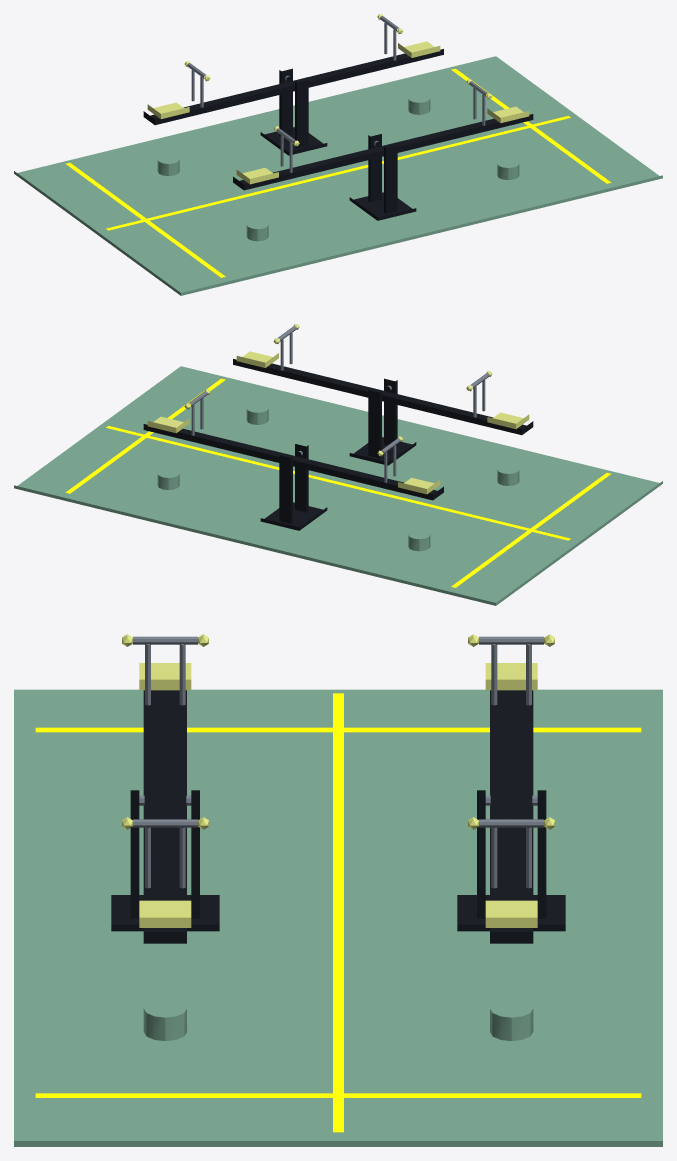
3 views of the same model, one above another, from view 1: azimuth 30°, elevation 25°; view 2: azimuth 150°, elevation 25°; view 3: azimuth 270°, elevation 25° (orthographic). The views are drawn at different scales.
Parts seen in each view (by area): view 1: Safety_Pad, Court_Line, Seesaw1_Beam, Seesaw2_Beam, Fulcrum2, Fulcrum1, Seesaw2_Seats, Seesaw1_Seats, Seesaw2_Handles, Seesaw1_Handles, Bumpers1, Bumpers2; view 2: Safety_Pad, Court_Line, Seesaw2_Beam, Seesaw1_Beam, Fulcrum1, Fulcrum2, Seesaw1_Seats, Seesaw2_Seats, Seesaw1_Handles, Seesaw2_Handles, Bumpers2, Bumpers1; view 3: Safety_Pad, Court_Line, Seesaw1_Beam, Seesaw2_Beam, Fulcrum1, Fulcrum2, Seesaw1_Handles, Seesaw2_Handles, Seesaw1_Seats, Seesaw2_Seats, Bumpers1, Bumpers2.
Part boxes in pixels (bbox=[...]): Safety_Pad: bbox=[14, 56, 662, 295]; Court_Line: bbox=[65, 68, 611, 277]; Seesaw1_Beam: bbox=[143, 49, 443, 125]; Seesaw2_Beam: bbox=[233, 114, 533, 190]; Fulcrum2: bbox=[349, 134, 416, 220]; Fulcrum1: bbox=[260, 68, 327, 155]; Seesaw2_Seats: bbox=[236, 106, 529, 184]; Seesaw1_Seats: bbox=[147, 41, 440, 119]; Seesaw2_Handles: bbox=[276, 81, 488, 172]; Seesaw1_Handles: bbox=[187, 16, 399, 107]; Bumpers1: bbox=[157, 99, 430, 175]; Bumpers2: bbox=[246, 164, 519, 241]; Safety_Pad: bbox=[14, 366, 662, 605]; Court_Line: bbox=[65, 378, 611, 587]; Seesaw2_Beam: bbox=[233, 359, 533, 435]; Seesaw1_Beam: bbox=[143, 424, 443, 500]; Fulcrum1: bbox=[260, 444, 327, 530]; Fulcrum2: bbox=[349, 378, 416, 465]; Seesaw1_Seats: bbox=[147, 416, 440, 494]; Seesaw2_Seats: bbox=[236, 351, 529, 429]; Seesaw1_Handles: bbox=[188, 391, 400, 482]; Seesaw2_Handles: bbox=[277, 326, 489, 417]; Bumpers2: bbox=[246, 409, 519, 485]; Bumpers1: bbox=[157, 474, 430, 551]; Safety_Pad: bbox=[14, 689, 662, 1146]; Court_Line: bbox=[35, 693, 641, 1132]; Seesaw1_Beam: bbox=[490, 690, 533, 943]; Seesaw2_Beam: bbox=[143, 690, 186, 943]; Fulcrum1: bbox=[457, 790, 565, 931]; Fulcrum2: bbox=[111, 790, 219, 931]; Seesaw1_Handles: bbox=[479, 636, 543, 888]; Seesaw2_Handles: bbox=[133, 636, 197, 888]; Seesaw1_Seats: bbox=[485, 663, 537, 927]; Seesaw2_Seats: bbox=[139, 663, 191, 927]; Bumpers1: bbox=[490, 1009, 533, 1040]; Bumpers2: bbox=[143, 1009, 186, 1040].
Size of what is drawn, in the model's own units: 5 by 0.9755 by 3.
Materials: 5 (2 with a texture image).
